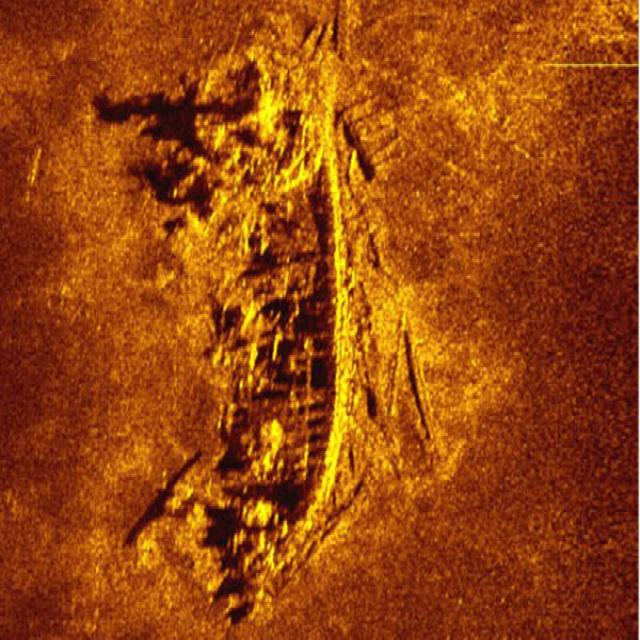ship: (195, 49, 368, 596)
